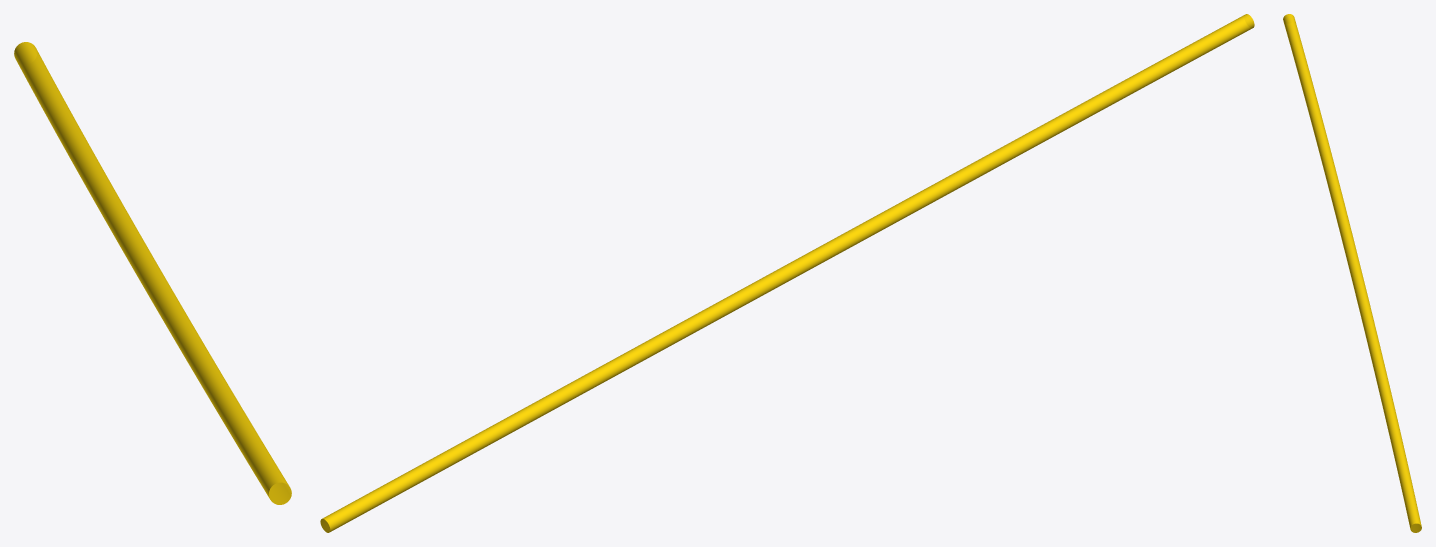
The model's file is Event_421278790_track_47.fbx.
3 renders of one model, left to right at view 1: azimuth 90°, elevation 25°; view 2: azimuth 210°, elevation 25°; view 3: azimuth 270°, elevation 25°, orthographic. The views are drawn at different scales.
Visible parts, largest first — view 1: Model; view 2: Model; view 3: Model.
Boxes of the visible parts, x1=… form: Model: x1=14, y1=42, x2=291, y2=504; Model: x1=320, y1=14, x2=1254, y2=532; Model: x1=1283, y1=14, x2=1421, y2=532.
Size of the model in its own units: 2.96 by 0.5852 by 0.4752.
